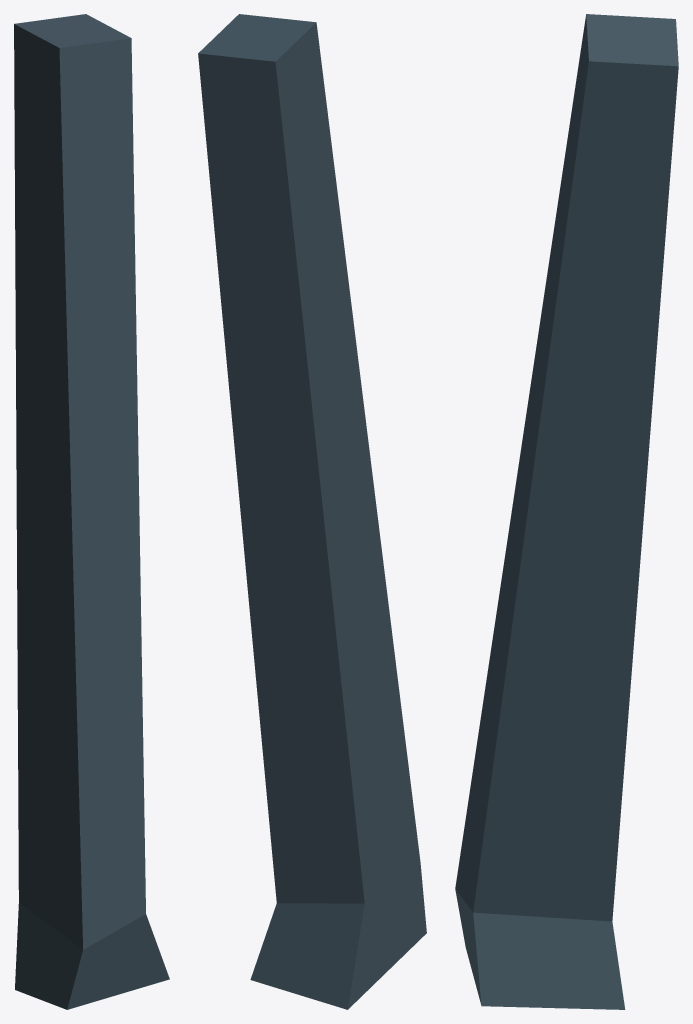
File: lowercase-s.glb
3 views of the same model, side by side, from view 1: azimuth 30°, elevation 25°; view 2: azimuth 150°, elevation 25°; view 3: azimuth 270°, elevation 25° (orthographic). The views are drawn at different scales.
Size of the model in its own units: 0.0557 by 0.4069 by 0.0832.
